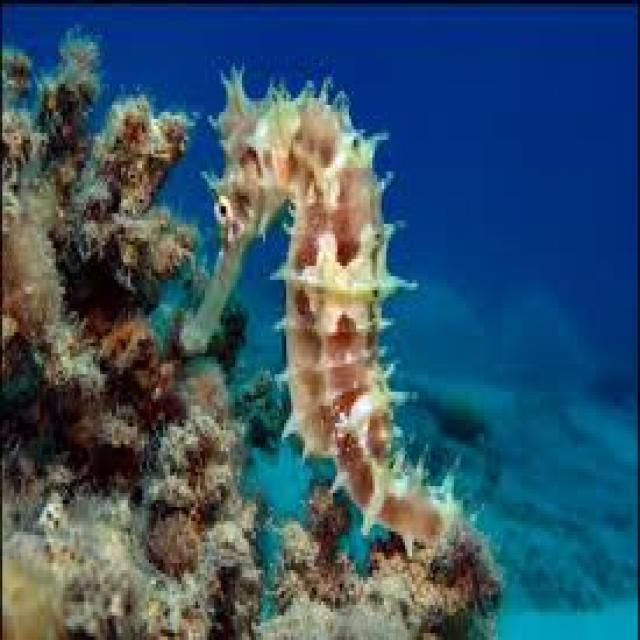SeaHorse: (182, 70, 442, 549)
